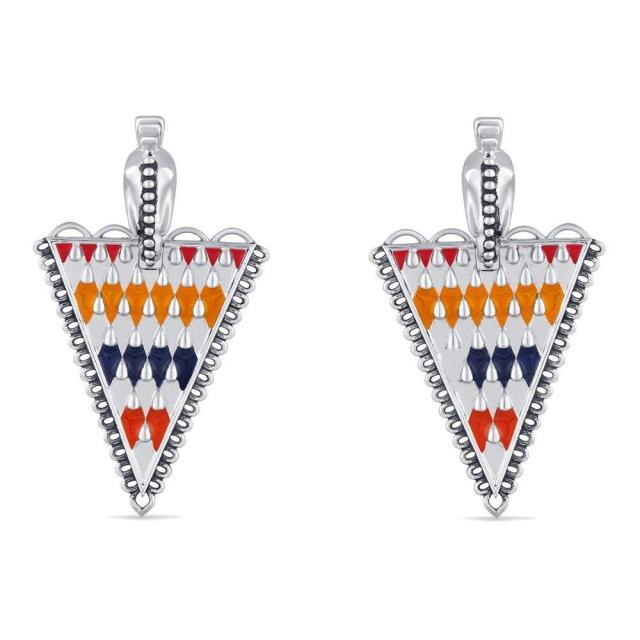missing gem: (439, 347, 467, 392), (517, 246, 534, 264)
